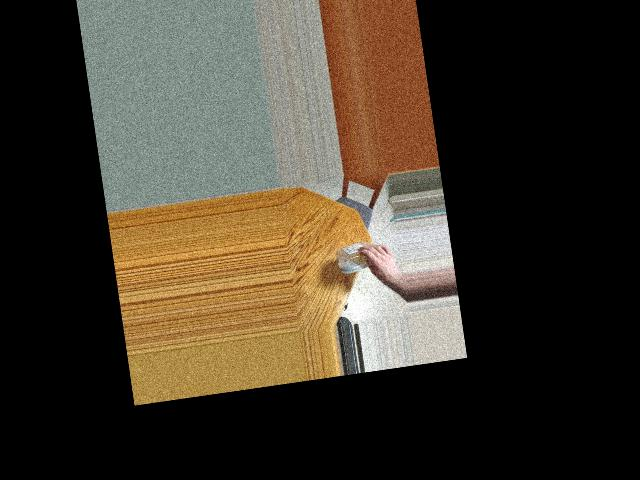cheese: (343, 238, 384, 276)
